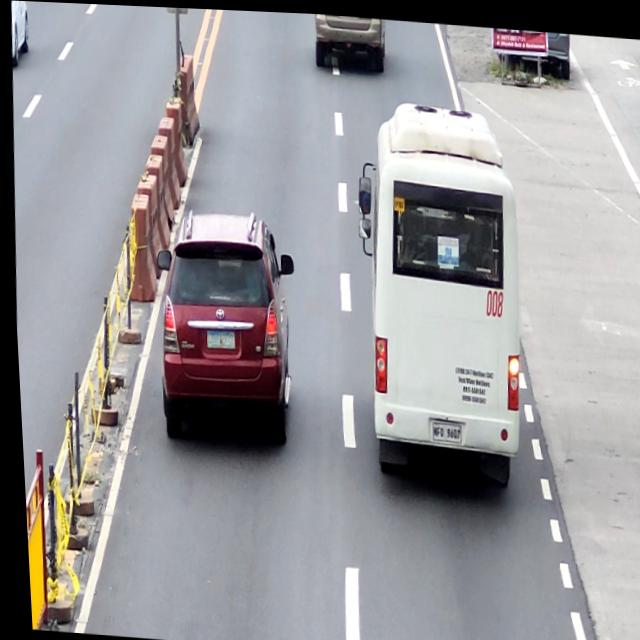Bus: (340, 94, 531, 492)
Car: (144, 204, 300, 444)
License-Plate: (427, 418, 458, 441), (202, 327, 232, 347)
